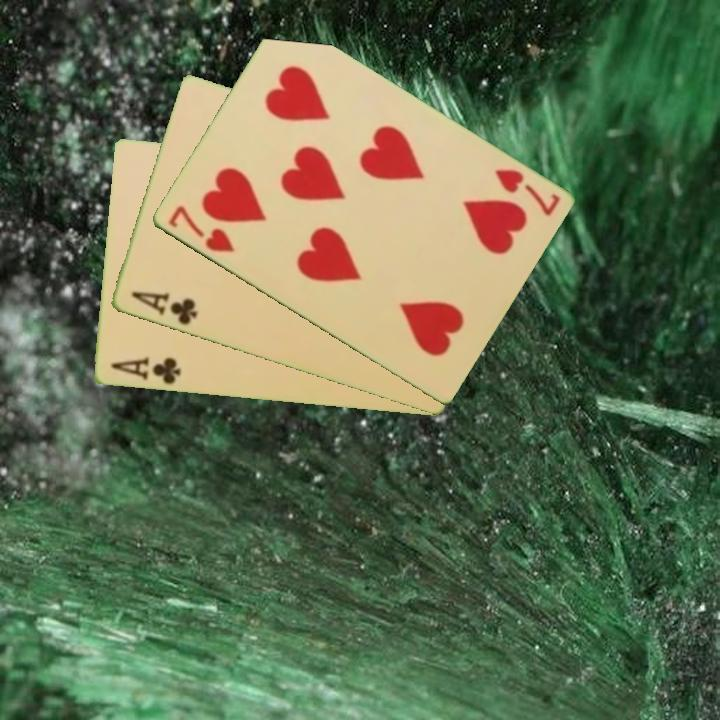7h: (164, 202, 238, 256), (490, 165, 563, 219)
Ac: (127, 288, 200, 329), (107, 354, 183, 387)
